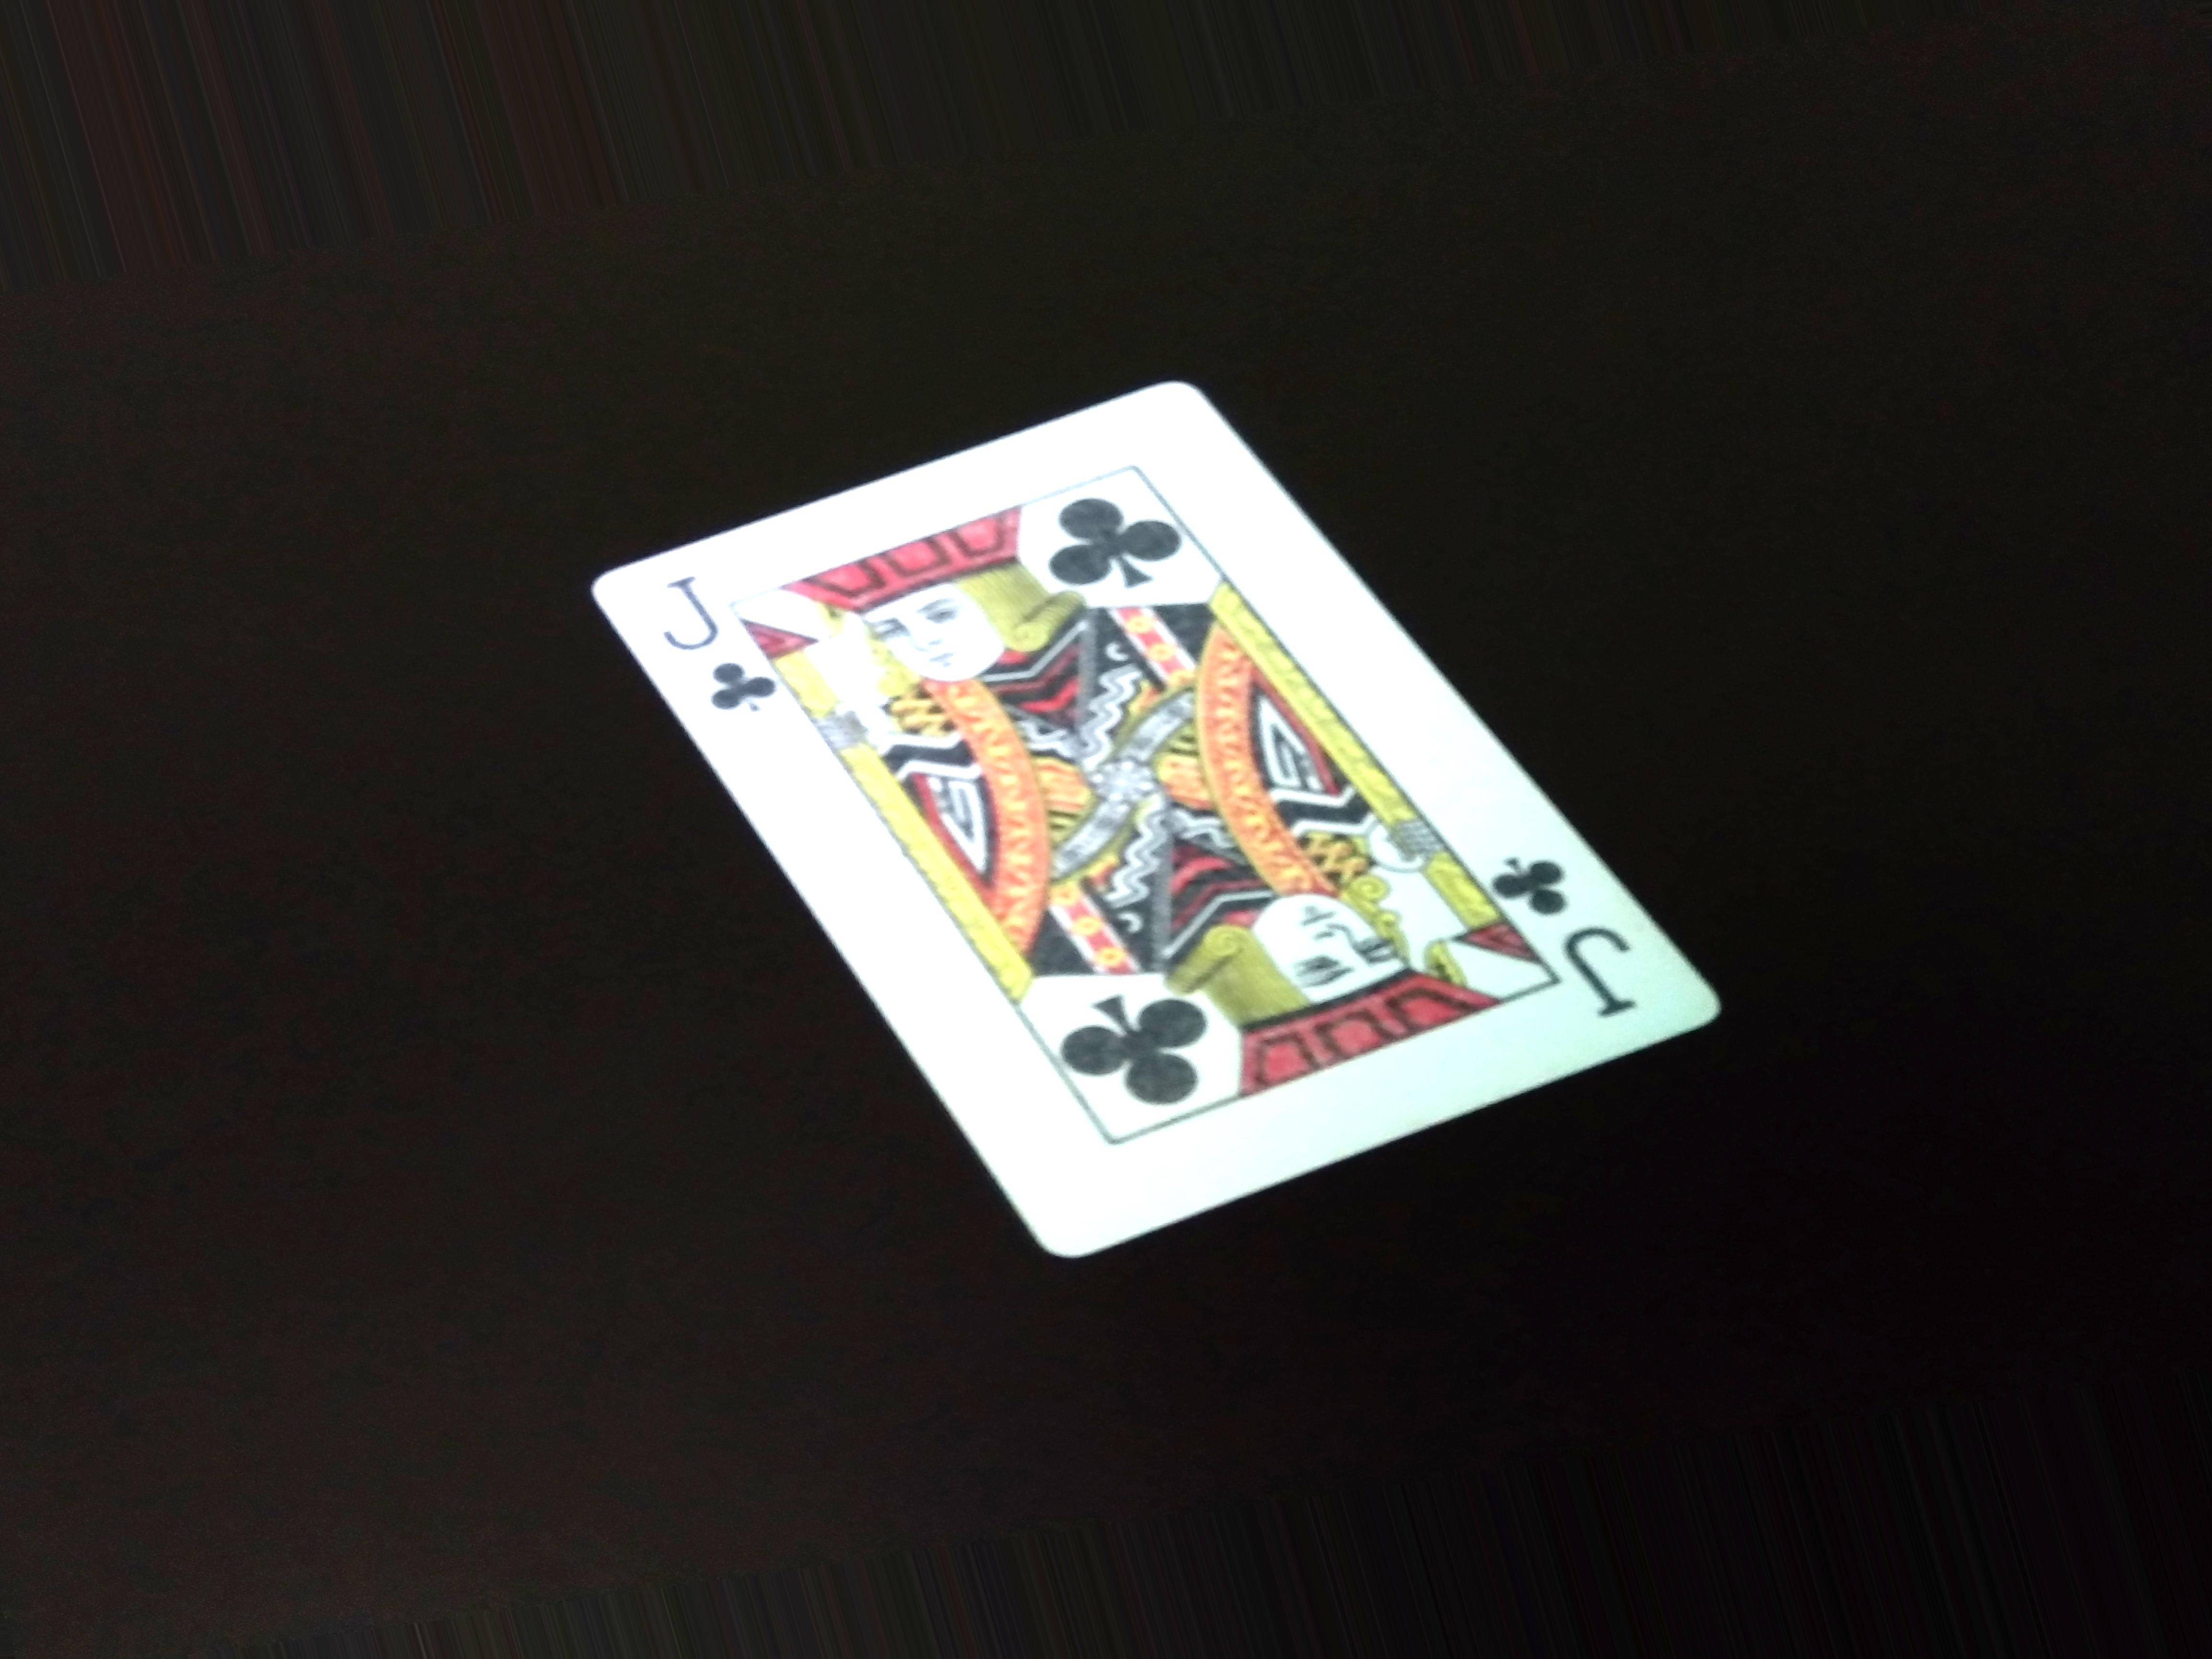JC: (658, 565, 765, 748)
